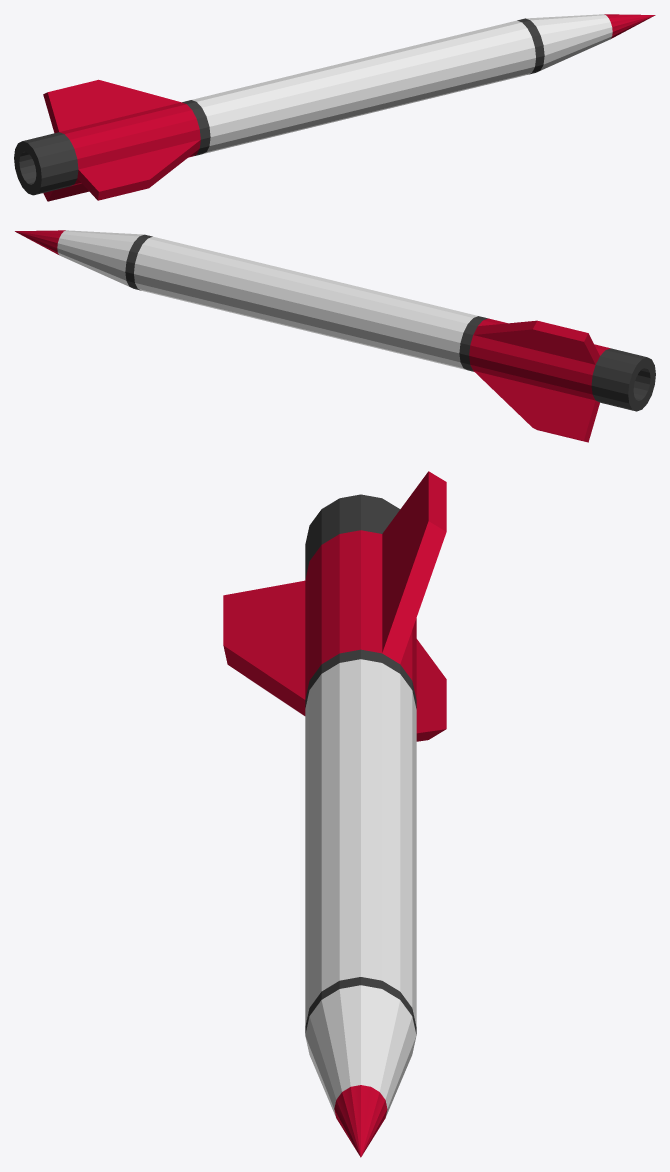
The model's file is missile_red.glb.
3 views of the same model, one above another, from view 1: azimuth 30°, elevation 25°; view 2: azimuth 150°, elevation 25°; view 3: azimuth 270°, elevation 25° (orthographic). The views are drawn at different scales.
Parts seen in each view (by area): view 1: Missile_red; view 2: Missile_red; view 3: Missile_red.
Part boxes in pixels (left/top/right/bottom): Missile_red: left=14, top=14, right=655, bottom=201; Missile_red: left=15, top=230, right=655, bottom=442; Missile_red: left=223, top=471, right=446, bottom=1157.
Size of the model in its own units: 1.67 by 0.2787 by 0.2574.
